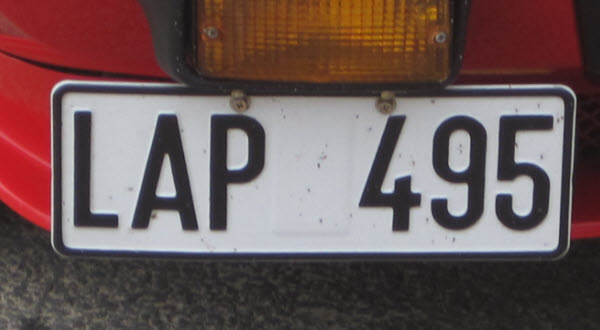license_plate: (51, 84, 573, 259)
